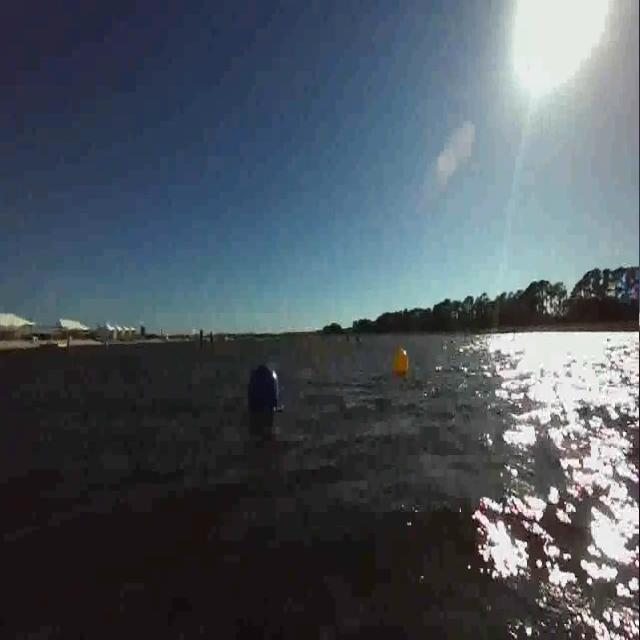blue-buoy: (246, 362, 278, 420)
yellow-buoy: (396, 346, 412, 376)
